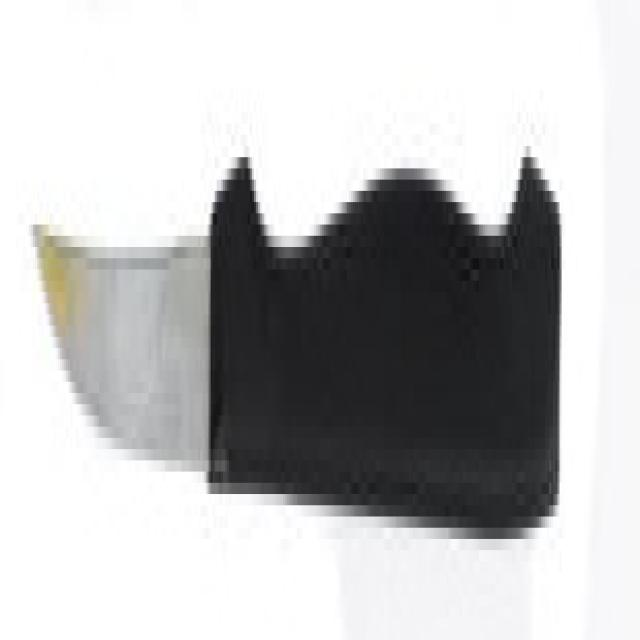knife: (25, 100, 566, 589)
